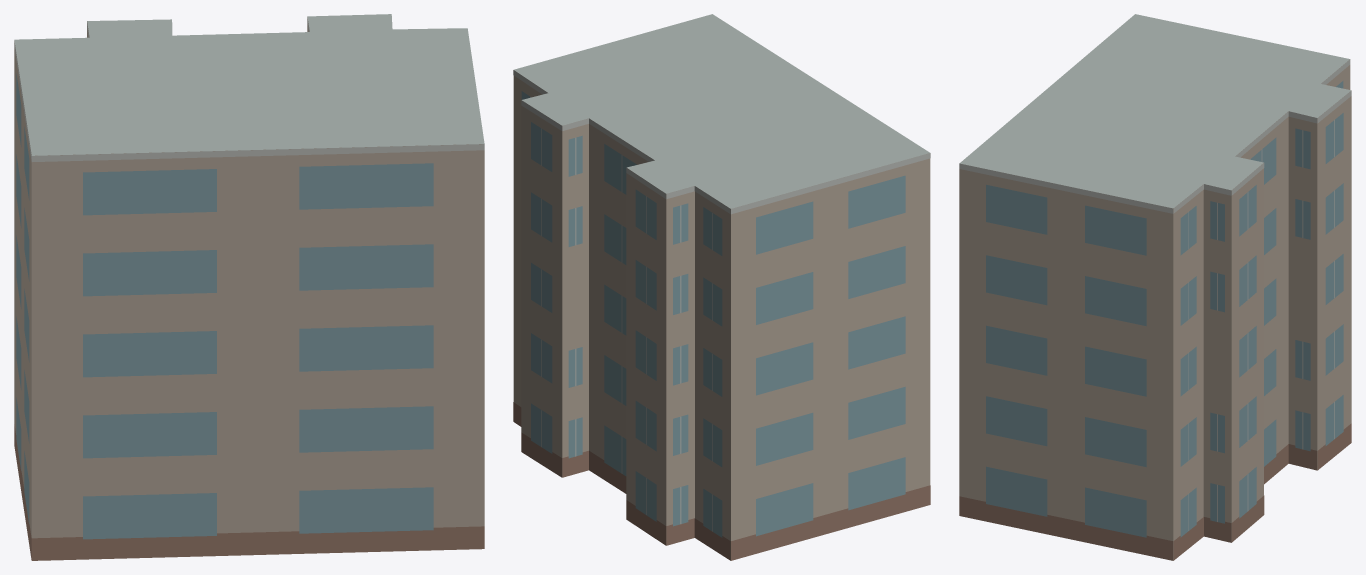
The model's file is survey-upis-32886775.glb.
3 renders of one model, left to right at view 1: azimuth 30°, elevation 25°; view 2: azimuth 150°, elevation 25°; view 3: azimuth 270°, elevation 25°, orthographic. The views are drawn at different scales.
Parts seen in each view (by area): view 1: survey-upis-32886775.tmp; view 2: survey-upis-32886775.tmp; view 3: survey-upis-32886775.tmp.
Part boxes in pixels (x1,y1,x2,y2): survey-upis-32886775.tmp: [14, 14, 484, 560]; survey-upis-32886775.tmp: [513, 14, 930, 560]; survey-upis-32886775.tmp: [959, 14, 1351, 560].
Size of the model in its own units: 18.58 by 15.7 by 15.84.
